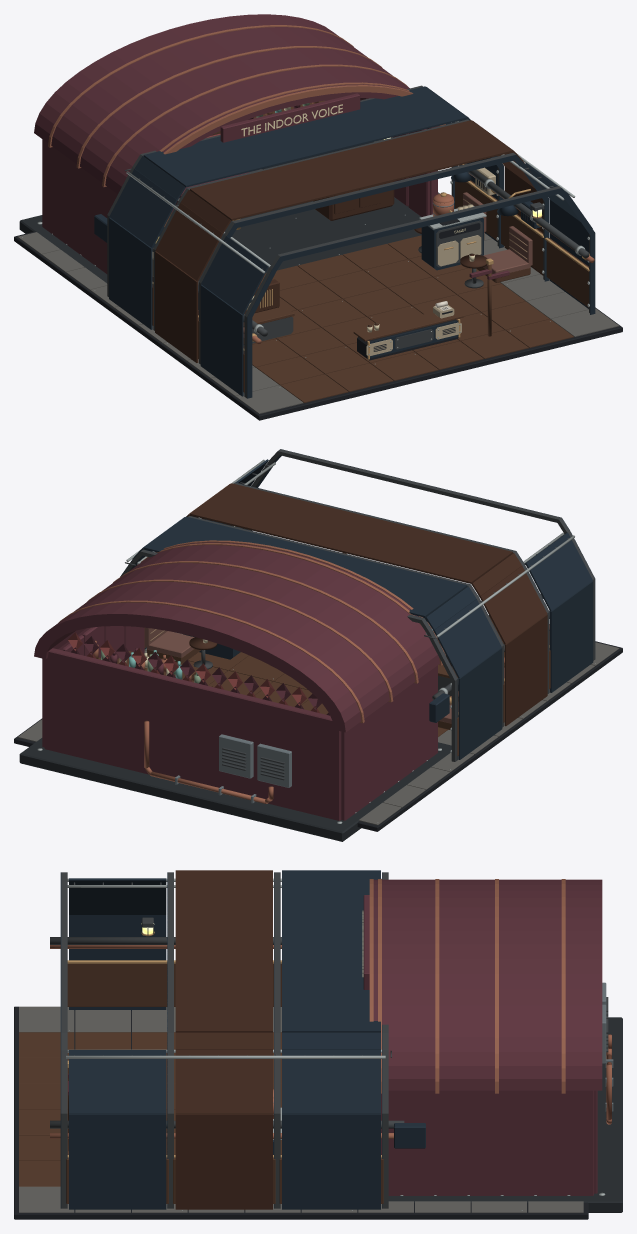
The model's file is listening-post-hush-bar.glb.
3 views of the same model, one above another, from view 1: azimuth 30°, elevation 25°; view 2: azimuth 150°, elevation 25°; view 3: azimuth 270°, elevation 25° (orthographic). The views are drawn at different scales.
Visible parts, largest first — view 1: listening-post-hush-bar; view 2: listening-post-hush-bar; view 3: listening-post-hush-bar.
Boxes of the visible parts, x1=… form: listening-post-hush-bar: x1=14, y1=14, x2=622, y2=420; listening-post-hush-bar: x1=14, y1=449, x2=622, y2=841; listening-post-hush-bar: x1=14, y1=870, x2=622, y2=1219.
Size of the model in its own units: 17.08 by 7.81 by 21.15.
25 materials, 22 textured.
